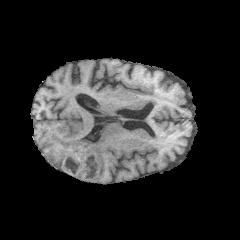glioma: (44, 131, 103, 181)
